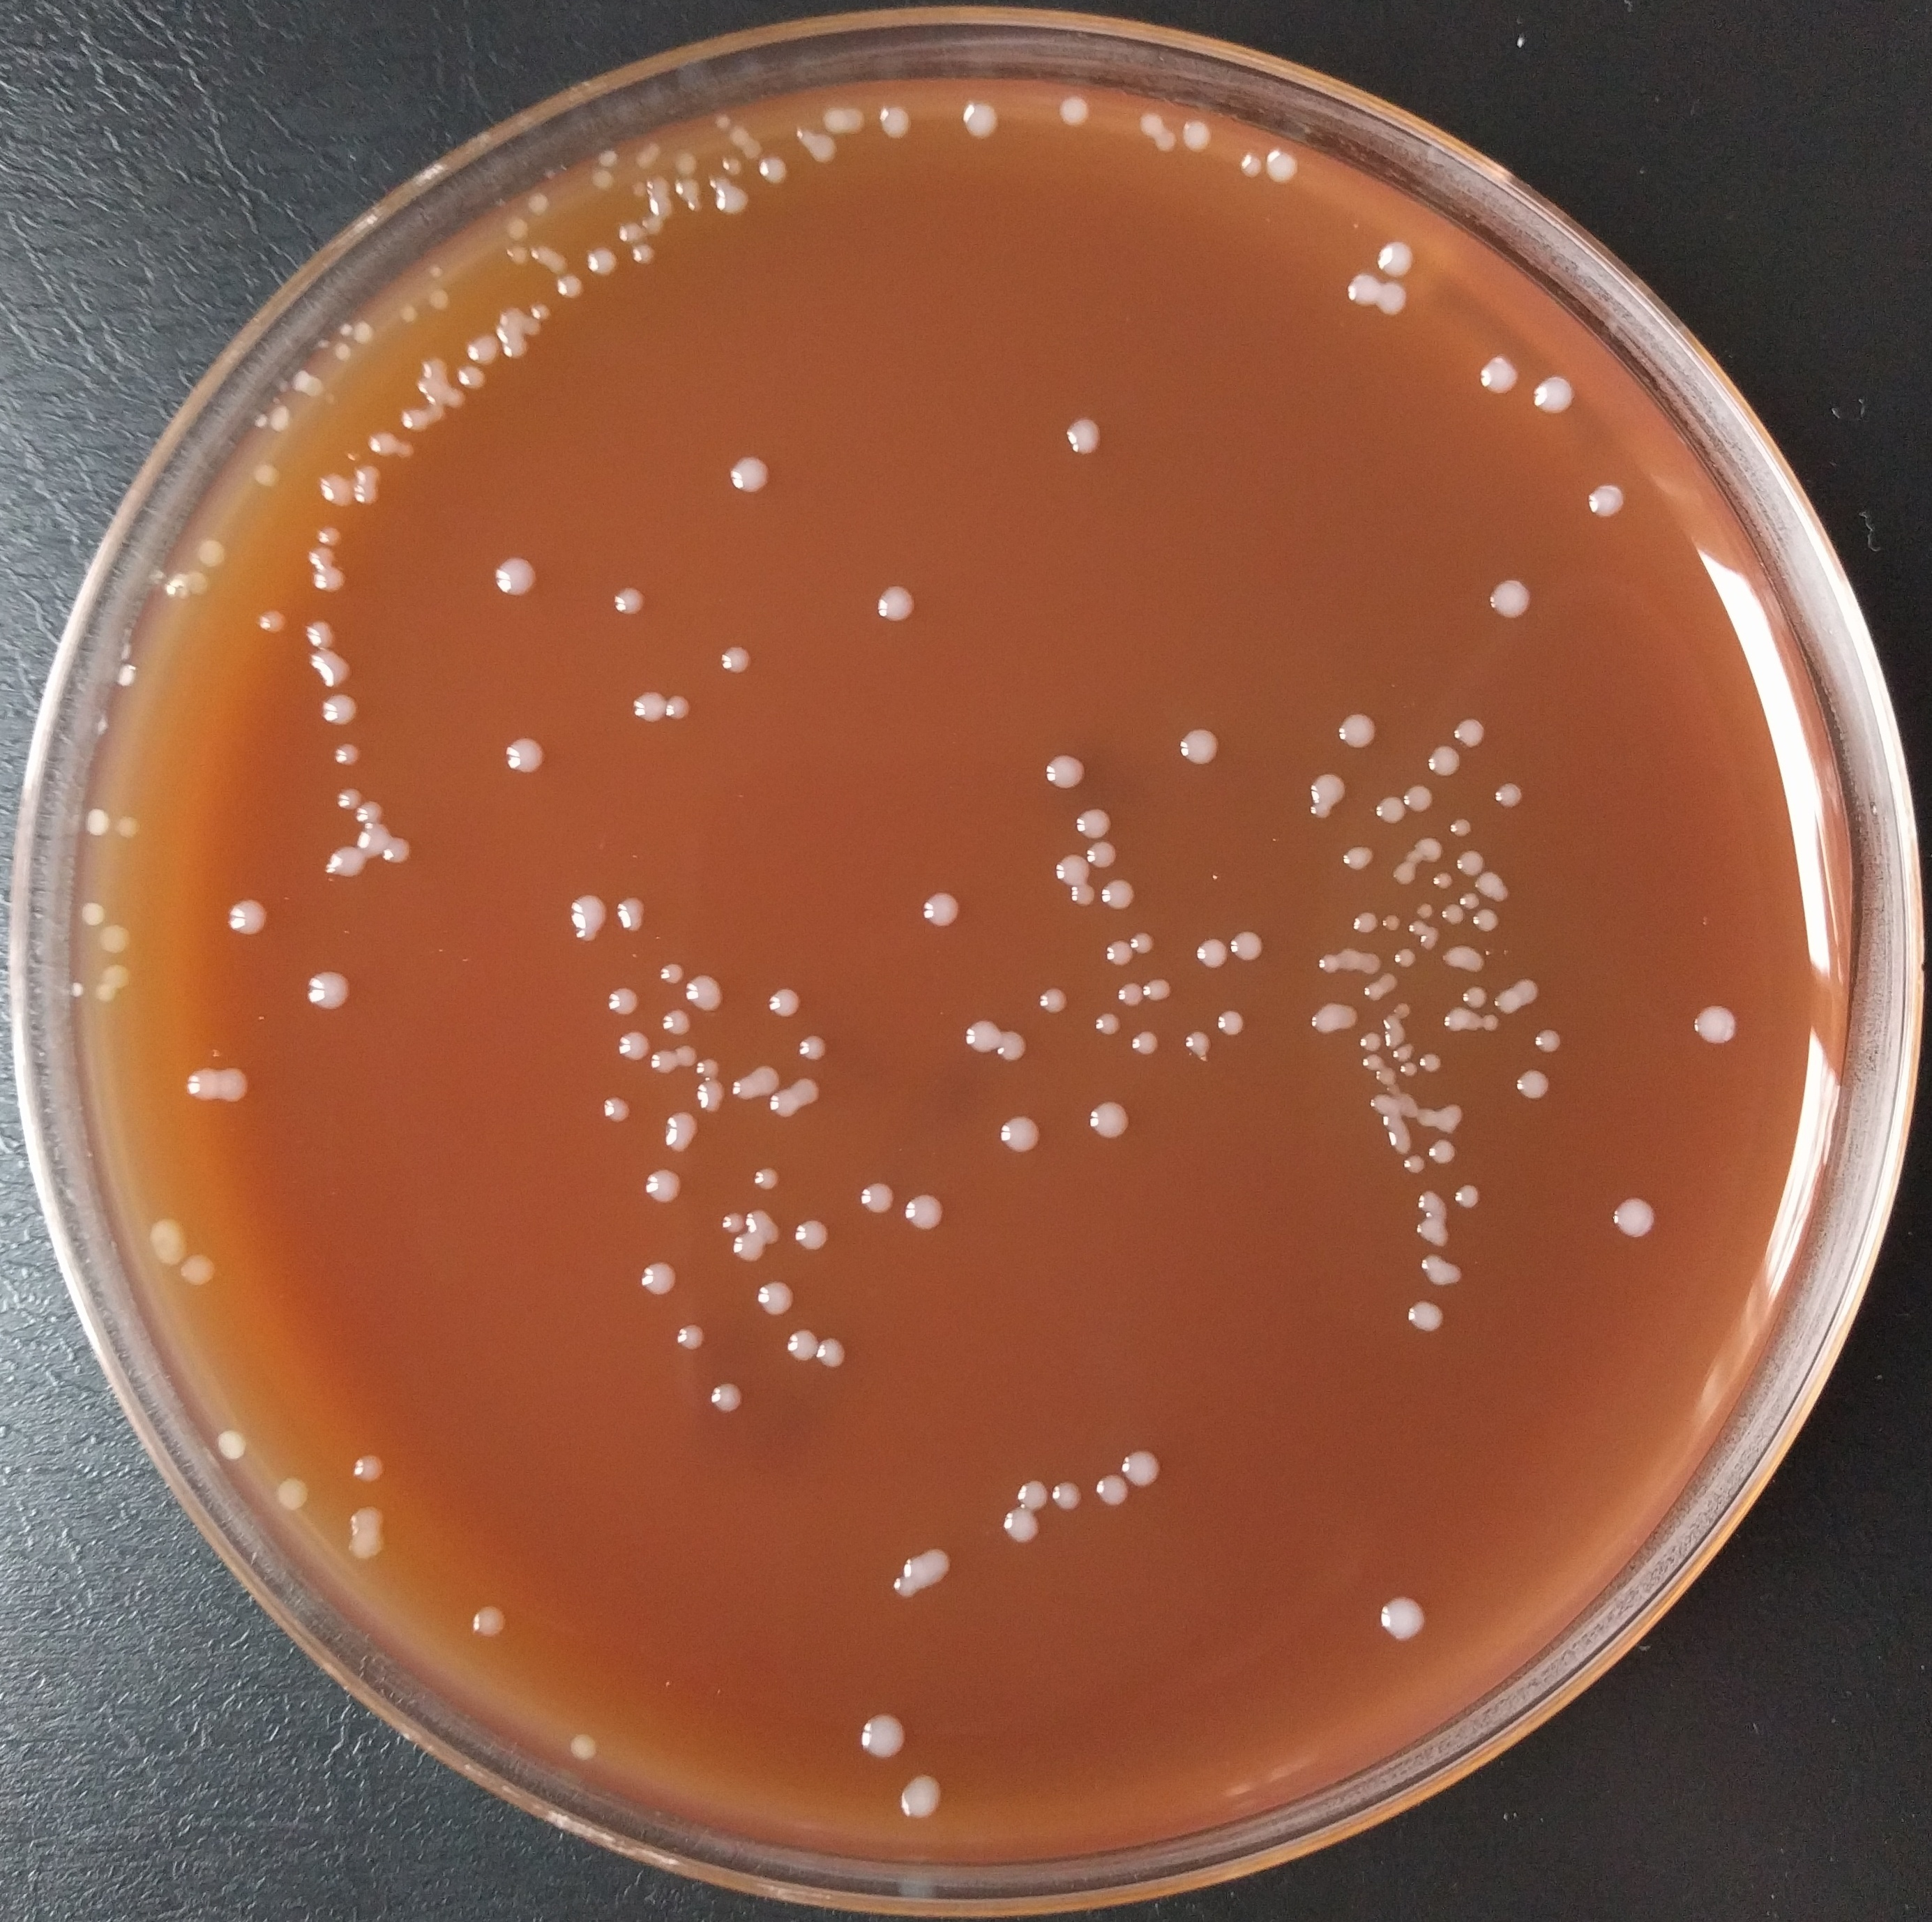sp16: (889, 1540, 962, 1605), (1467, 567, 1543, 630), (1367, 1589, 1434, 1651), (1524, 370, 1596, 424), (853, 1709, 920, 1767), (1411, 1250, 1478, 1301), (556, 889, 611, 947), (1402, 1190, 1453, 1251), (343, 1427, 394, 1489), (769, 1070, 823, 1125), (1297, 996, 1365, 1038), (299, 968, 355, 1019), (917, 885, 973, 936), (487, 306, 535, 366), (1035, 750, 1094, 797), (486, 556, 547, 602), (1686, 1000, 1742, 1049), (788, 125, 846, 172), (493, 730, 553, 776), (954, 97, 1006, 148), (866, 577, 920, 627), (899, 1767, 947, 1823), (1336, 704, 1383, 760), (218, 894, 276, 940), (1297, 771, 1350, 820), (1578, 477, 1633, 525), (718, 454, 774, 500), (1490, 975, 1548, 1019), (336, 1491, 398, 1531), (303, 648, 361, 690), (996, 1505, 1054, 1547), (1068, 803, 1117, 852), (1080, 1097, 1131, 1144), (1612, 1193, 1663, 1241), (1094, 871, 1145, 919), (1059, 407, 1105, 459), (996, 1111, 1049, 1156), (1052, 86, 1101, 134), (1438, 1005, 1501, 1042), (1175, 722, 1223, 771), (741, 1202, 787, 1253), (1117, 1445, 1168, 1491), (897, 1188, 950, 1232), (727, 1061, 781, 1104), (1436, 940, 1490, 982), (1372, 232, 1418, 282), (656, 1111, 702, 1160), (141, 1216, 187, 1264), (206, 1427, 253, 1473), (213, 1060, 257, 1109), (639, 1162, 683, 1211), (264, 1471, 313, 1515), (1469, 352, 1519, 396), (413, 356, 450, 414), (1258, 143, 1302, 190), (465, 1596, 512, 1640), (1091, 1468, 1135, 1515), (875, 104, 920, 148), (684, 970, 730, 1014), (667, 1320, 711, 1366), (345, 1535, 396, 1574), (313, 472, 361, 512), (563, 1727, 611, 1767), (727, 1232, 778, 1269), (1401, 1301, 1453, 1336), (1188, 933, 1232, 975), (1448, 715, 1494, 755), (633, 1262, 681, 1301), (755, 1280, 802, 1318), (1399, 834, 1448, 871), (1175, 114, 1218, 157), (688, 1074, 730, 1116), (1086, 1003, 1128, 1045), (855, 1177, 899, 1218), (181, 1250, 225, 1290), (347, 820, 392, 859), (713, 642, 760, 679), (318, 850, 373, 882), (1049, 1475, 1091, 1515), (1510, 1065, 1552, 1105), (1358, 968, 1401, 1009), (764, 982, 808, 1021), (954, 1017, 999, 1054), (1230, 926, 1267, 972), (1047, 852, 1093, 889), (700, 1382, 748, 1417), (1339, 269, 1379, 310), (181, 1067, 222, 1107), (611, 892, 651, 933), (1473, 868, 1511, 910), (579, 243, 623, 280), (1376, 276, 1411, 322), (998, 1024, 1033, 1070), (670, 171, 704, 218), (630, 688, 670, 727), (779, 1324, 818, 1364), (788, 1216, 827, 1257), (1450, 847, 1489, 887), (1490, 773, 1527, 815), (315, 693, 361, 727), (600, 984, 646, 1017), (308, 561, 350, 597), (1339, 942, 1381, 977), (1420, 746, 1462, 781), (250, 607, 294, 641), (97, 915, 130, 959), (1527, 1024, 1571, 1058), (1080, 838, 1124, 871), (526, 243, 572, 275), (794, 1030, 832, 1067), (595, 1091, 633, 1128), (1114, 977, 1151, 1016), (1100, 933, 1137, 972), (611, 583, 651, 618), (656, 1001, 697, 1037), (1420, 1132, 1460, 1167), (1179, 1024, 1214, 1065), (709, 185, 757, 215), (1121, 926, 1163, 959), (1364, 1093, 1416, 1119), (1123, 1023, 1160, 1060), (1138, 973, 1175, 1010), (465, 336, 505, 370), (1399, 781, 1439, 815), (76, 803, 111, 840), (1015, 1477, 1052, 1512), (1339, 843, 1376, 878), (1149, 125, 1182, 164), (350, 797, 389, 831), (1035, 980, 1070, 1016), (1379, 1126, 1423, 1155), (72, 896, 109, 929), (611, 1030, 649, 1061), (1065, 878, 1103, 910), (454, 361, 494, 391), (820, 1331, 848, 1373), (663, 692, 697, 727), (667, 144, 704, 176), (653, 959, 690, 991), (1371, 792, 1402, 829), (1450, 1181, 1489, 1211), (1455, 980, 1494, 1010), (1348, 906, 1381, 940), (1438, 1100, 1471, 1133), (304, 616, 340, 648), (1378, 1019, 1413, 1051), (1212, 1003, 1244, 1038), (834, 104, 871, 134), (553, 273, 589, 303), (743, 1160, 779, 1190), (329, 787, 368, 815), (1133, 106, 1167, 137), (250, 461, 283, 493), (266, 403, 299, 435), (1235, 148, 1265, 183), (366, 428, 401, 458), (327, 736, 362, 766), (111, 664, 146, 693), (755, 157, 792, 185), (299, 546, 341, 570), (385, 833, 413, 869), (1357, 1028, 1395, 1054), (392, 401, 428, 429), (195, 537, 231, 565), (348, 317, 378, 348), (53, 973, 84, 1003), (100, 963, 130, 994), (711, 107, 744, 136), (350, 484, 384, 512), (1471, 905, 1504, 933), (1387, 859, 1420, 887), (1443, 815, 1483, 838), (646, 1047, 676, 1077), (1390, 942, 1420, 972), (1438, 898, 1466, 929), (637, 213, 670, 239), (313, 521, 347, 547), (616, 218, 644, 248), (501, 241, 533, 268), (672, 1038, 699, 1070), (716, 1207, 748, 1234), (1397, 1151, 1429, 1177), (1316, 947, 1343, 979), (350, 465, 389, 486), (524, 190, 554, 216), (1416, 1047, 1446, 1074), (588, 165, 619, 190), (1372, 1063, 1404, 1088), (1406, 1102, 1438, 1126), (690, 1056, 723, 1079), (593, 143, 619, 171), (1420, 924, 1446, 952), (1378, 1111, 1413, 1132), (642, 172, 674, 195), (426, 289, 463, 308), (711, 155, 744, 176), (626, 245, 660, 266), (1387, 1038, 1415, 1063), (649, 195, 679, 218), (503, 216, 533, 239), (394, 438, 424, 461), (1431, 868, 1457, 892), (116, 815, 143, 840), (1357, 1051, 1390, 1070), (164, 572, 192, 595), (287, 364, 313, 387), (1411, 898, 1438, 921), (1455, 889, 1482, 912), (93, 986, 121, 1007), (396, 303, 419, 327), (528, 301, 556, 320), (1379, 906, 1402, 929), (728, 121, 753, 143), (818, 104, 843, 123), (1376, 1010, 1402, 1028), (1397, 1060, 1423, 1077), (737, 136, 758, 157), (1387, 1001, 1415, 1017), (333, 343, 357, 361), (1404, 919, 1425, 936), (644, 137, 662, 157), (630, 153, 653, 167), (336, 320, 354, 338)
